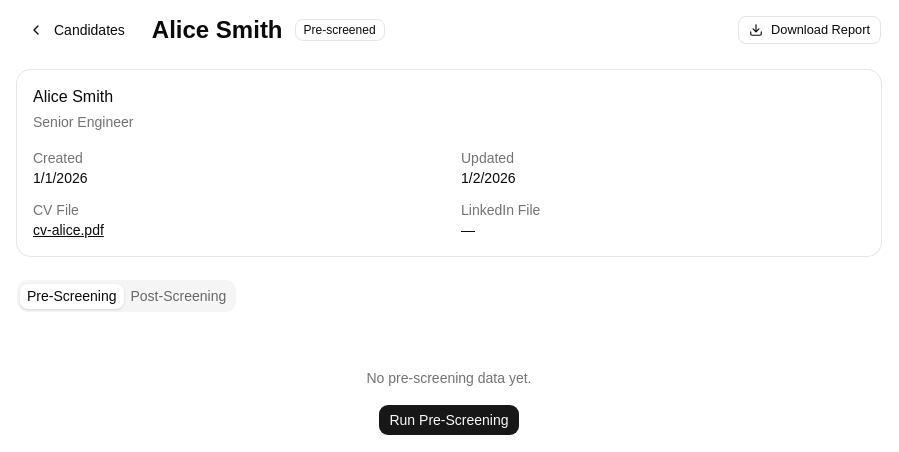
it: Download Report button › disables the button while request is in-flight
Click the button "Download Report" at (810, 30), box [738, 16, 881, 44]
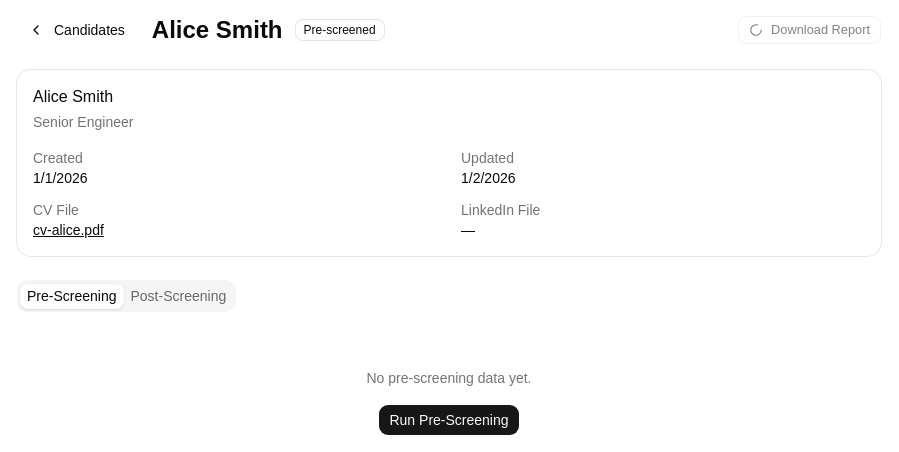
Expected: the button "Download Report" is disabled, [738, 16, 881, 44]
